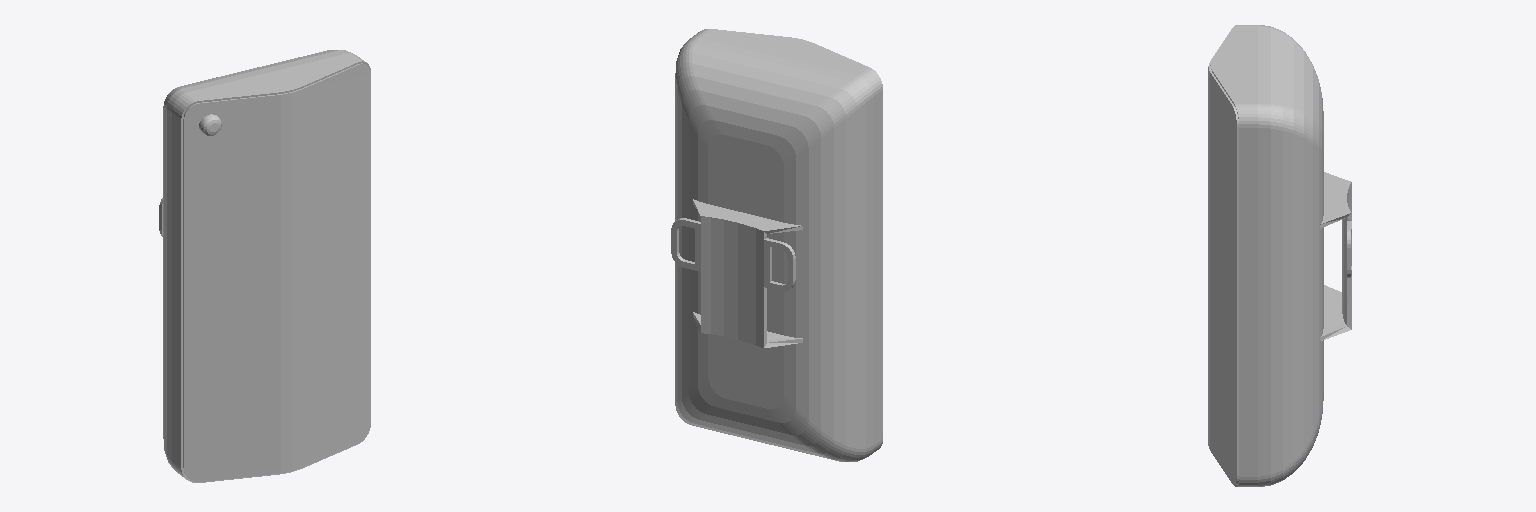
Rendered from Sensori_HYOT.obj.
3 views of the same model, side by side, from view 1: azimuth 30°, elevation 25°; view 2: azimuth 150°, elevation 25°; view 3: azimuth 270°, elevation 25° (orthographic).
Parts seen in each view (by area): view 1: Plane; view 2: Plane; view 3: Plane.
Part boxes in pixels (x1,y1,x2,y2): Plane: (159, 50, 370, 482); Plane: (671, 29, 882, 461); Plane: (1208, 25, 1351, 486).
Size of the model in its own units: 0.1396 by 0.2684 by 0.0912.